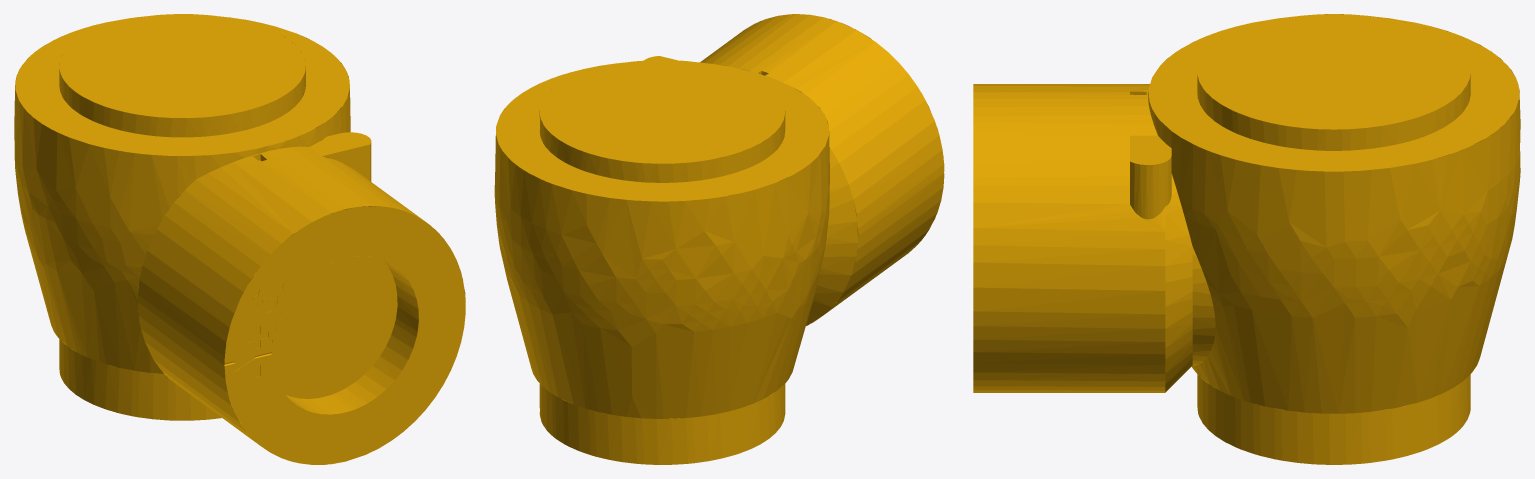
3 views of the same model, side by side, from view 1: azimuth 30°, elevation 25°; view 2: azimuth 150°, elevation 25°; view 3: azimuth 270°, elevation 25° (orthographic). The views are drawn at different scales.
Visible parts, largest first — view 1: KR6R900_sixx_Link5; view 2: KR6R900_sixx_Link5; view 3: KR6R900_sixx_Link5.
Boxes of the visible parts, x1,y1,x2,y2 form: KR6R900_sixx_Link5: [14, 14, 465, 464]; KR6R900_sixx_Link5: [494, 14, 944, 464]; KR6R900_sixx_Link5: [973, 14, 1520, 464].
Bounding box in the file's own units: 0.0793 × 0.1161 × 0.0785.
